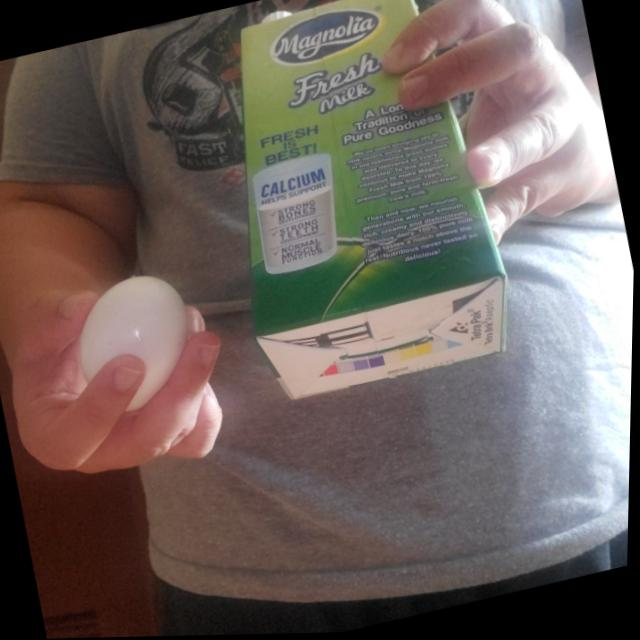egg: (72, 267, 204, 423)
milk: (197, 0, 532, 418)
